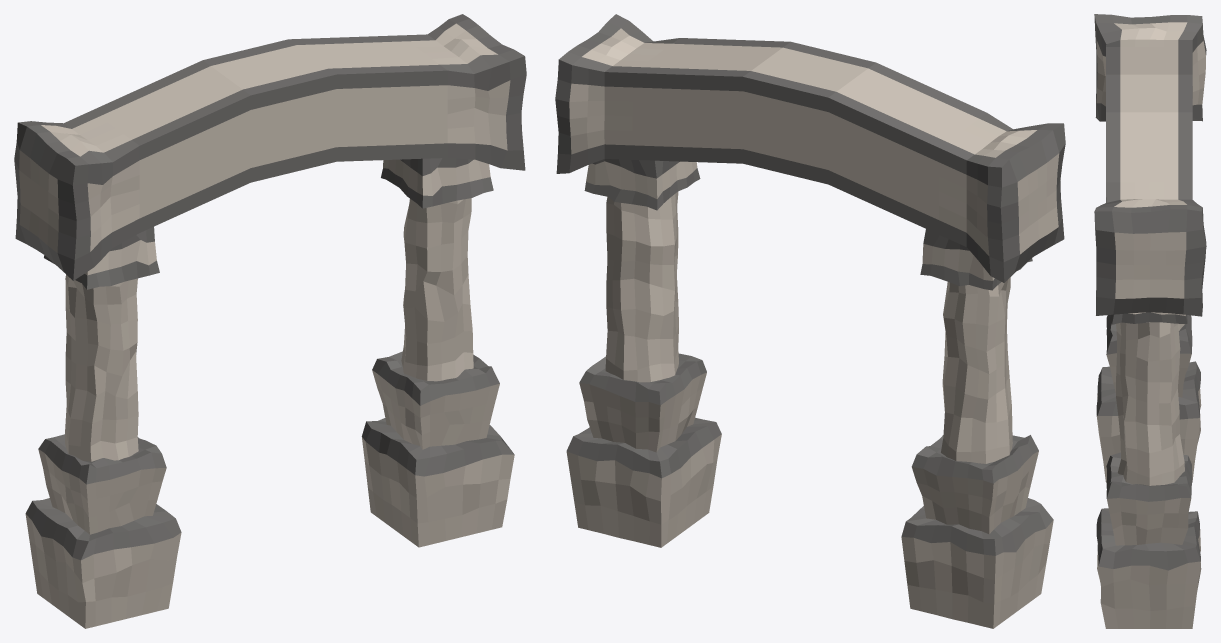
The model's file is portal.fbx.
The picture shows the model from 3 angles, left to right: view 1: azimuth 30°, elevation 25°; view 2: azimuth 150°, elevation 25°; view 3: azimuth 270°, elevation 25°; orthographic projection. The views are drawn at different scales.
Visible parts, largest first — view 1: portal; view 2: portal; view 3: portal.
Part boxes in pixels (bbox=[...]): portal: bbox=[14, 14, 526, 628]; portal: bbox=[555, 14, 1065, 628]; portal: bbox=[1094, 14, 1206, 628].
Bounding box in the file's own units: 277 × 283 × 64.72.
